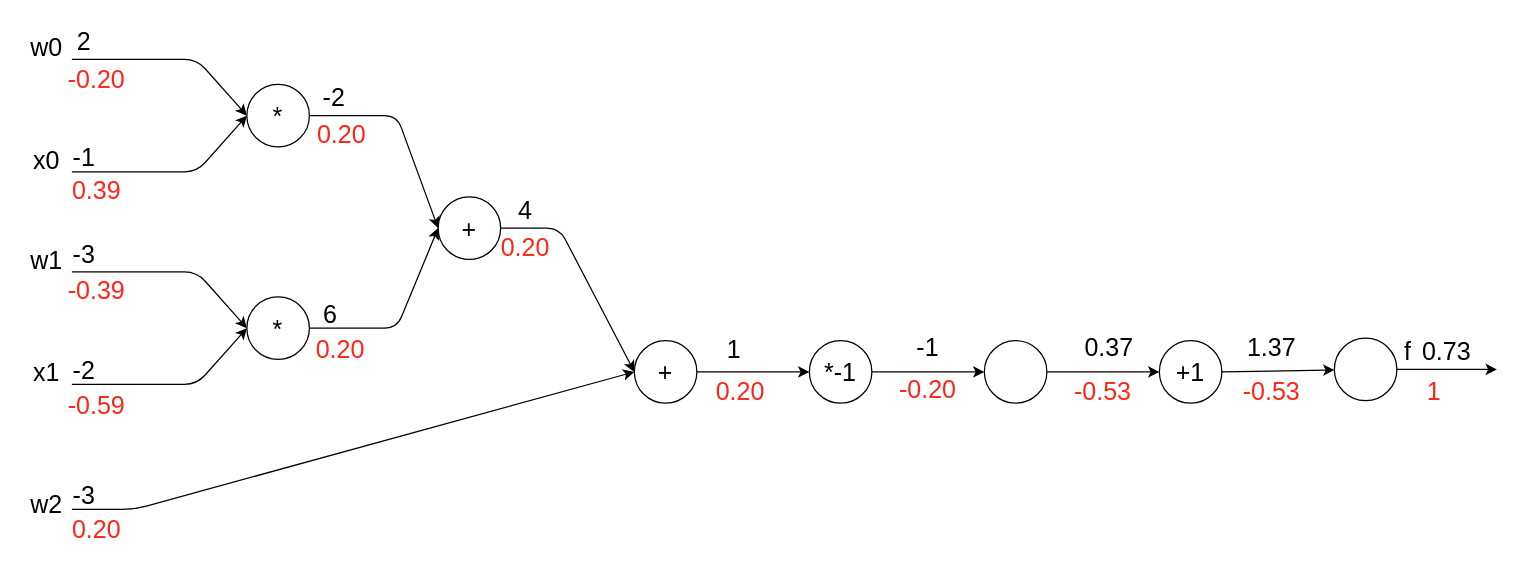
Image size: 1529x568. Some labels were removed from this diagram. Here are the shapes that lost their labels. From the top down, the centre of each, then its label:
At pixel 1015 371: "exp".
At pixel 1365 369: "1/x".
